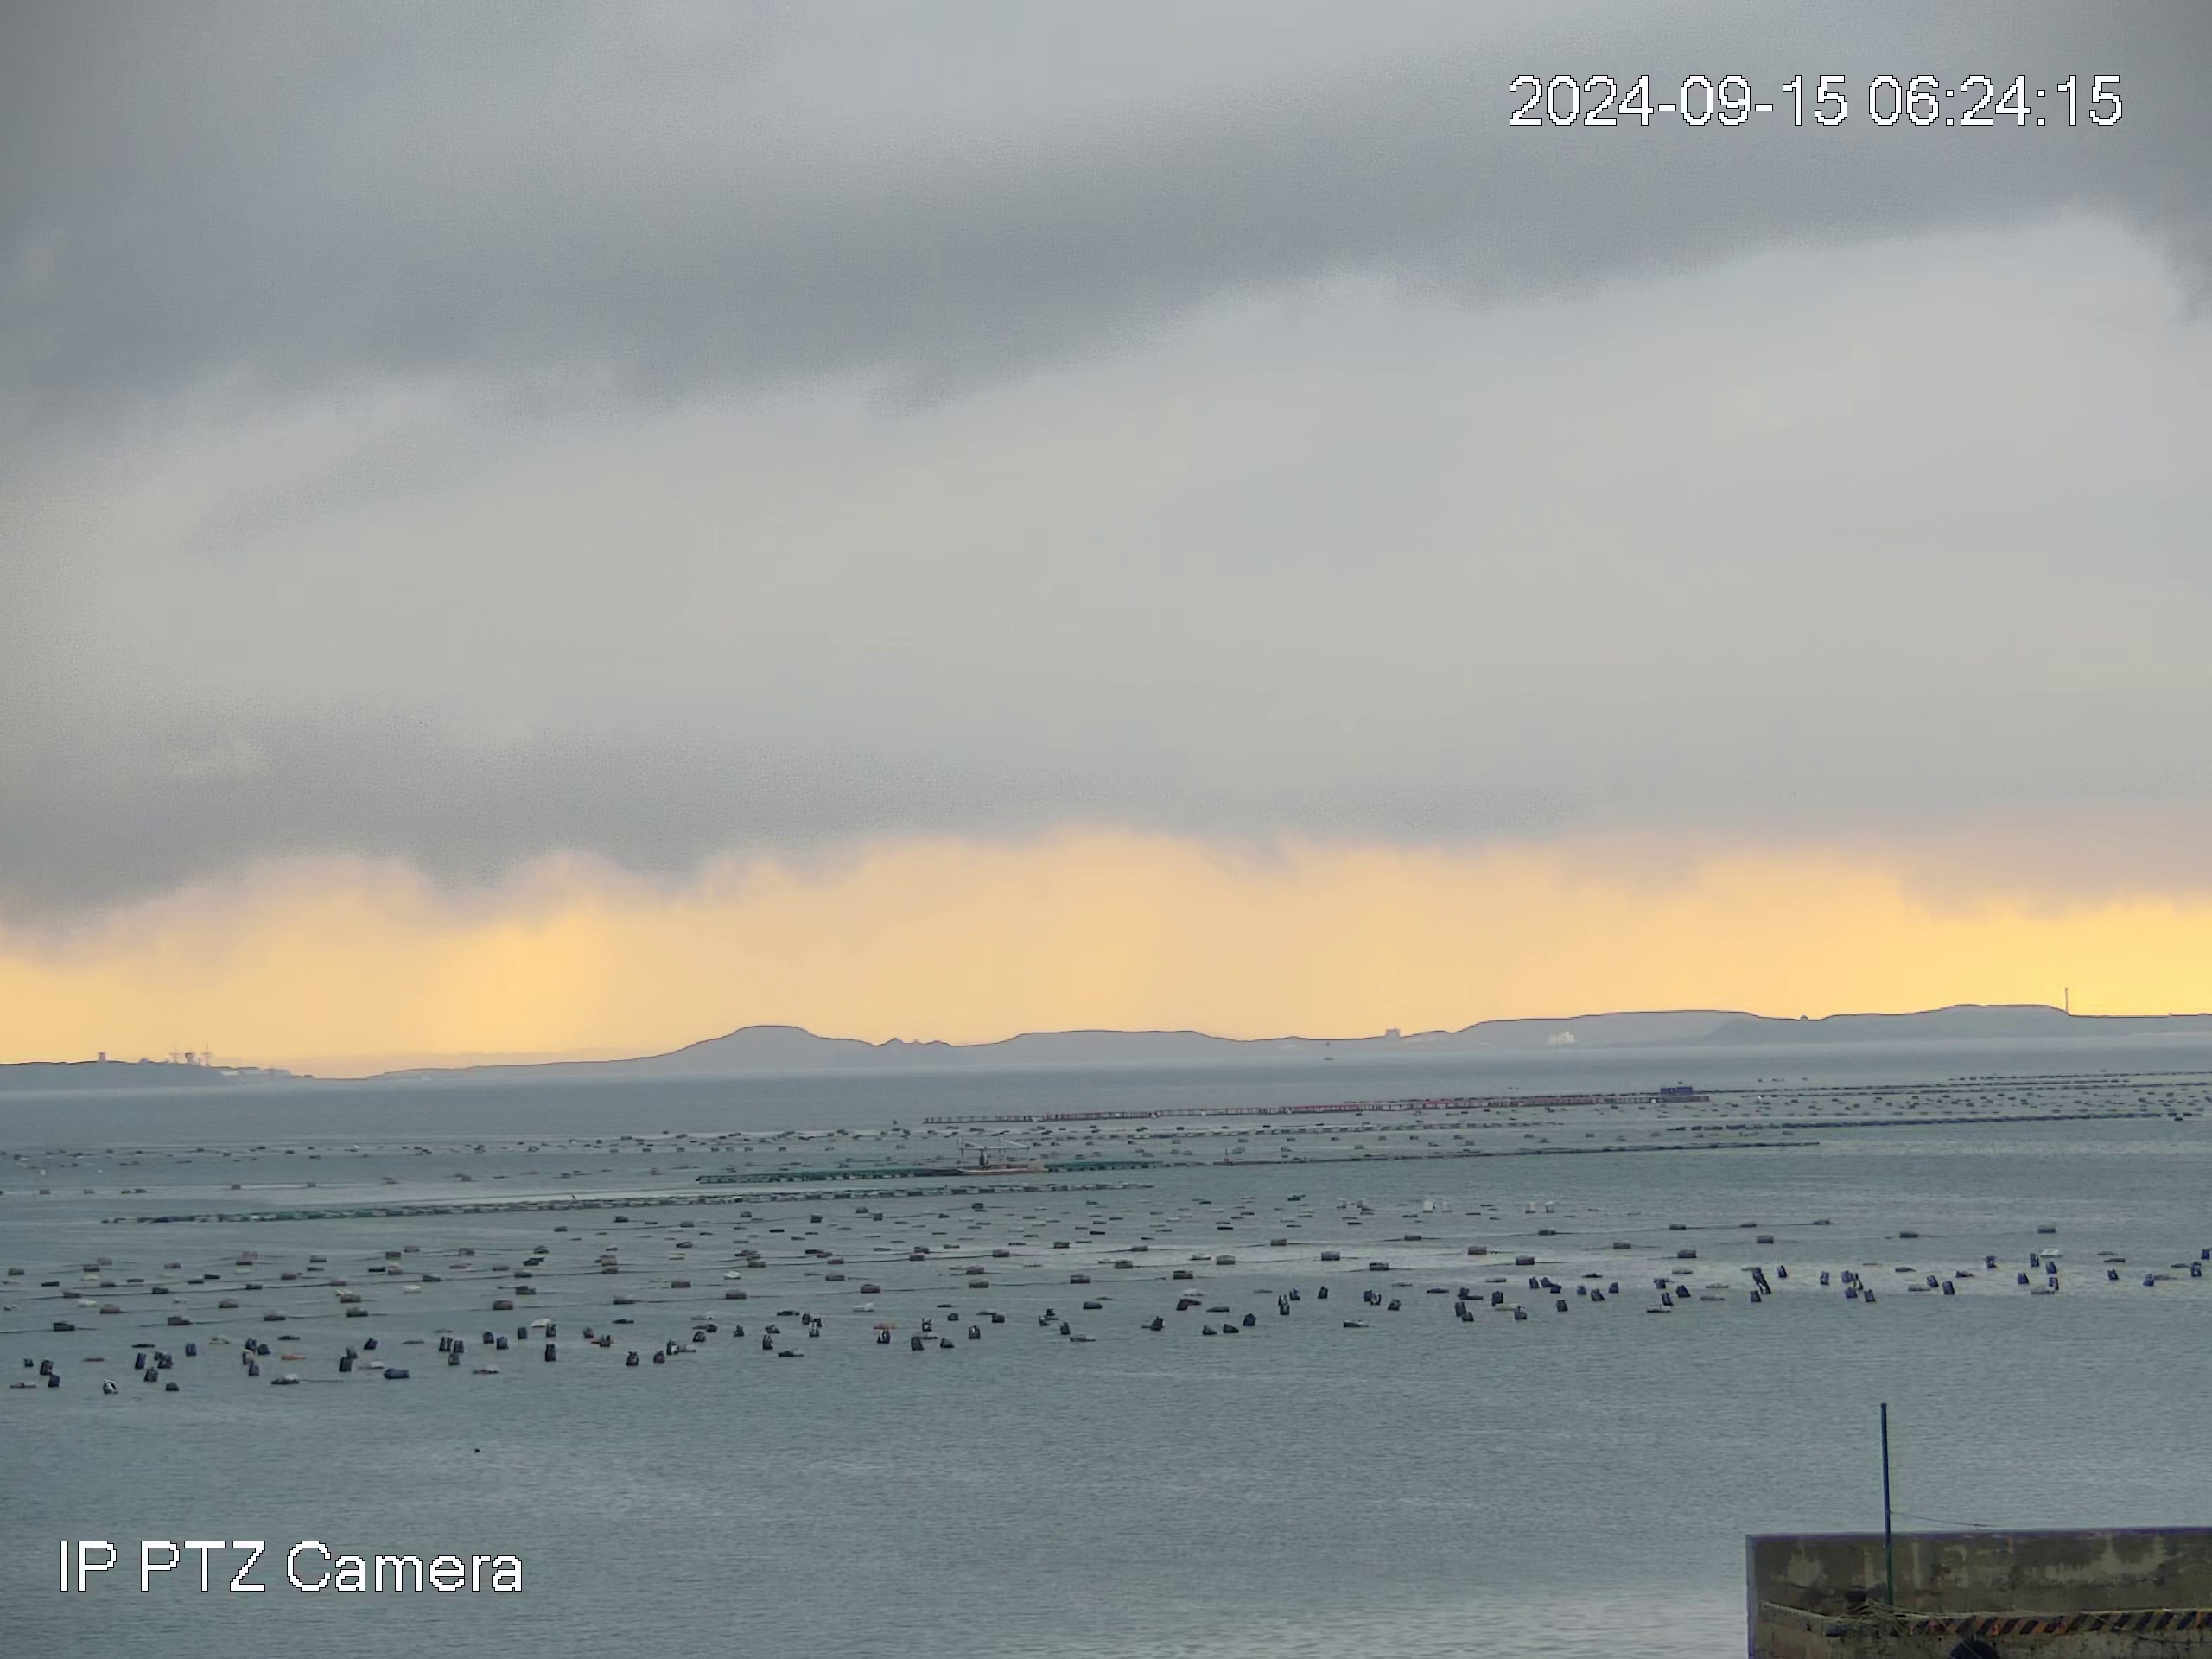boat: (953, 1134, 1050, 1178)
